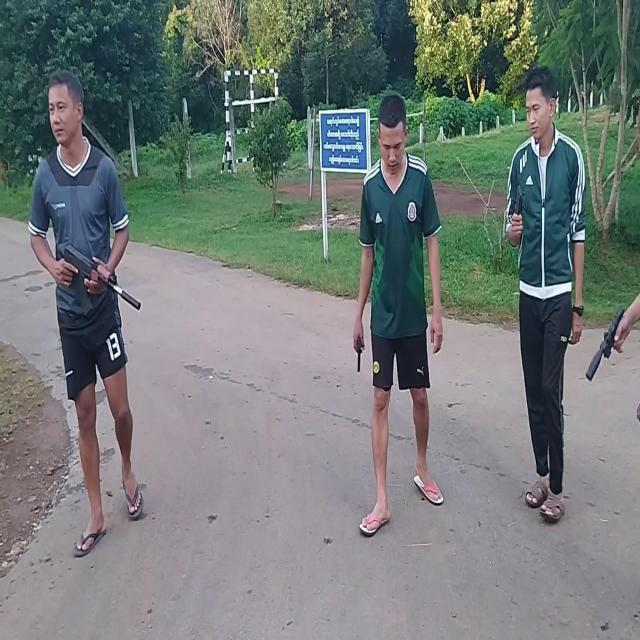gun: (64, 242, 140, 317), (357, 339, 360, 373)
